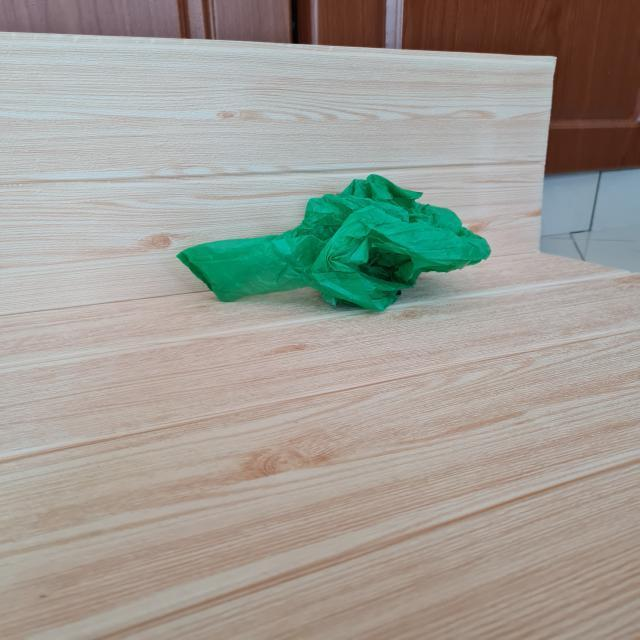Plastic_Bag: (168, 178, 490, 319)
